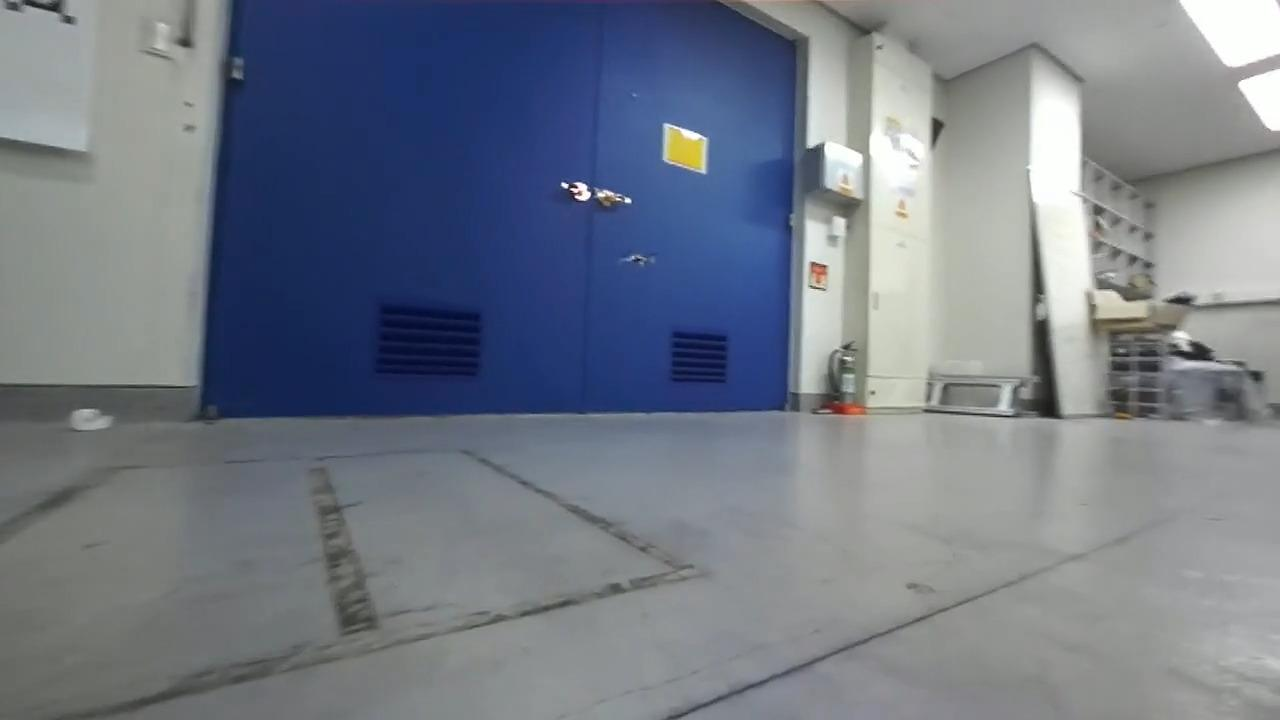crazyflie: (614, 245, 660, 275)
